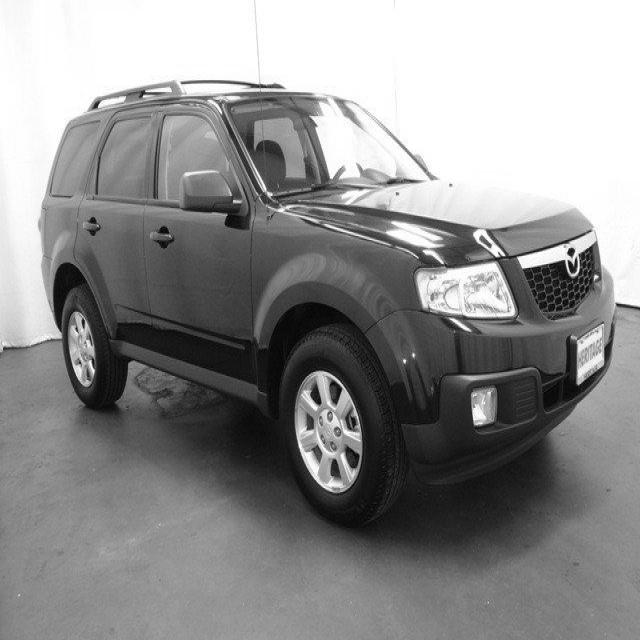car: (37, 77, 617, 528)
